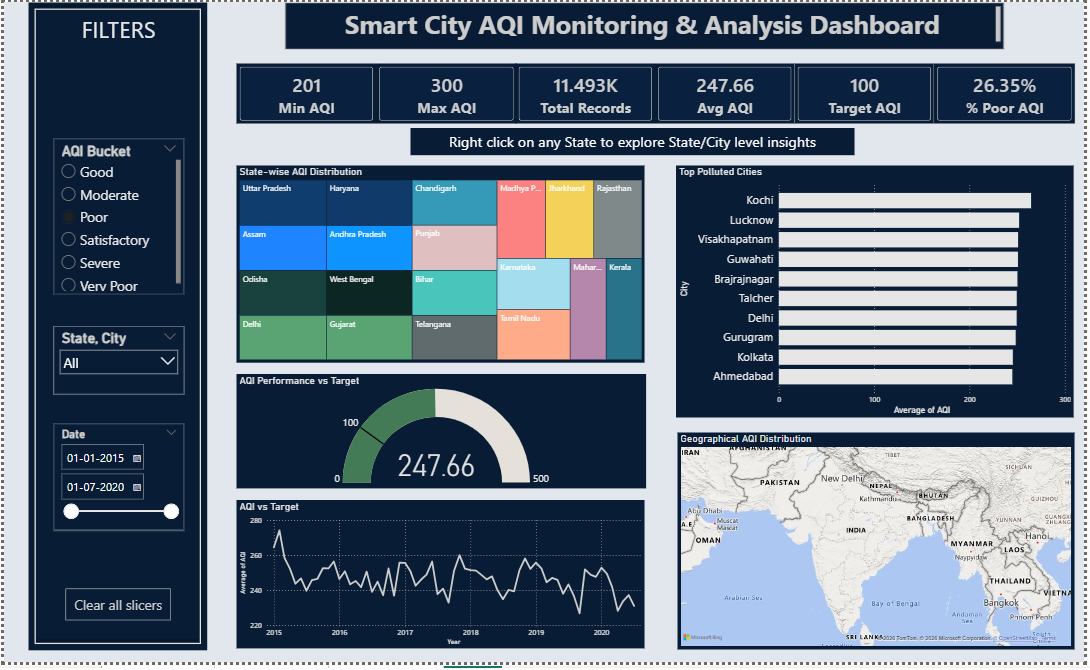

What the dashboard file says about the page in this screenshot:
{"tool":"powerbi","page":{"name":"Page 1","canvas":[1800,1100],"ordinal":0},"visuals":[{"type":"shape","box":[39.6,0,299.3,1081.1],"z":0},{"type":"lineChart","title":"AQI vs Target","fields":{"Y":["Avg(station_day.AQI)"],"Category":["DateTable.Date.Variation.Date Hierarchy.Year","DateTable.Date.Variation.Date Hierarchy.Month"]},"box":[388.4,831.2,680.3,247.4],"z":1000},{"type":"slicer","fields":{"Values":["stations.State","stations.City"]},"box":[81.6,539.3,217.7,113.8],"z":2000},{"type":"slicer","fields":{"Values":["station_day.AQI_Bucket"]},"box":[81.6,227.6,217.7,259.8],"z":3000},{"type":"actionButton","box":[102,977.6,175.5,53.1],"z":4000},{"type":"treemap","title":"State-wise AQI Distribution","fields":{"Group":["stations.State"],"Values":["Avg(station_day.AQI)"]},"box":[388.6,271.4,680,328.6],"z":5000},{"type":"cardVisual","fields":{"Data":["Avg(station_day.AQI)"]},"box":[1084.4,102.2,232.2,100],"z":6000},{"type":"cardVisual","fields":{"Data":["Max(station_day.AQI)"]},"box":[619.5,102.4,234.1,100],"z":7000},{"type":"cardVisual","fields":{"Data":["Min(station_day.AQI)"]},"box":[387.5,102.5,232.5,100],"z":8000},{"type":"cardVisual","fields":{"Data":["CountNonNull(station_day.AQI)"]},"box":[852.5,102.5,232.5,100],"z":9000},{"type":"gauge","title":"AQI Performance vs Target","fields":{"Y":["Avg(station_day.AQI)"],"MinValue":["DateTable.Min AQI Gauge"],"MaxValue":["DateTable.Max AQI Gauge"],"TargetValue":["DateTable.Target AQI"]},"box":[388.4,620.9,682.8,190.5],"z":10000},{"type":"clusteredBarChart","title":"Top Polluted Cities","fields":{"Category":["stations.City"],"Y":["Avg(station_day.AQI)"]},"box":[1120,271.4,662.9,420],"z":11000},{"type":"textbox","box":[467.5,0,1200,80],"z":12000},{"type":"textbox","box":[81.6,14.8,217.7,64.3],"z":13000},{"type":"cardVisual","fields":{"Data":["DateTable.Target AQI"]},"box":[1316.7,102.2,232.2,100],"z":14000},{"type":"cardVisual","fields":{"Data":["DateTable.Poor AQI %"]},"box":[1548.9,102.2,234.4,100],"z":15000},{"type":"slicer","fields":{"Values":["DateTable.Date"]},"box":[81.6,702.6,217.7,178.1],"z":16000},{"type":"filledMap","fields":{"Category":["stations.City"]},"box":[1122,717.1,661,361],"z":17000},{"type":"textbox","box":[677.1,209,740,45],"z":18000}]}

Visuals, with their boxes in screenshot pixels (x1, y1, x2, y2), scaled from the page's 1800x1100 canvas onto the 1090x670 screenshot:
shape: 24/0/205/658
"AQI vs Target" lineChart: 235/506/647/657
slicer - stations.State x stations.City: 49/328/181/398
slicer - station_day.AQI_Bucket: 49/139/181/297
actionButton: 62/595/168/628
"State-wise AQI Distribution" treemap: 235/165/647/365
cardVisual - Avg(station_day.AQI): 657/62/797/123
cardVisual - Max(station_day.AQI): 375/62/517/123
cardVisual - Min(station_day.AQI): 235/62/375/123
cardVisual - CountNonNull(station_day.AQI): 516/62/657/123
"AQI Performance vs Target" gauge: 235/378/649/494
"Top Polluted Cities" clusteredBarChart: 678/165/1080/421
textbox: 283/0/1010/49
textbox: 49/9/181/48
cardVisual - DateTable.Target AQI: 797/62/938/123
cardVisual - DateTable.Poor AQI %: 938/62/1080/123
slicer - DateTable.Date: 49/428/181/536
filledMap - stations.City: 679/437/1080/657
textbox: 410/127/858/155
